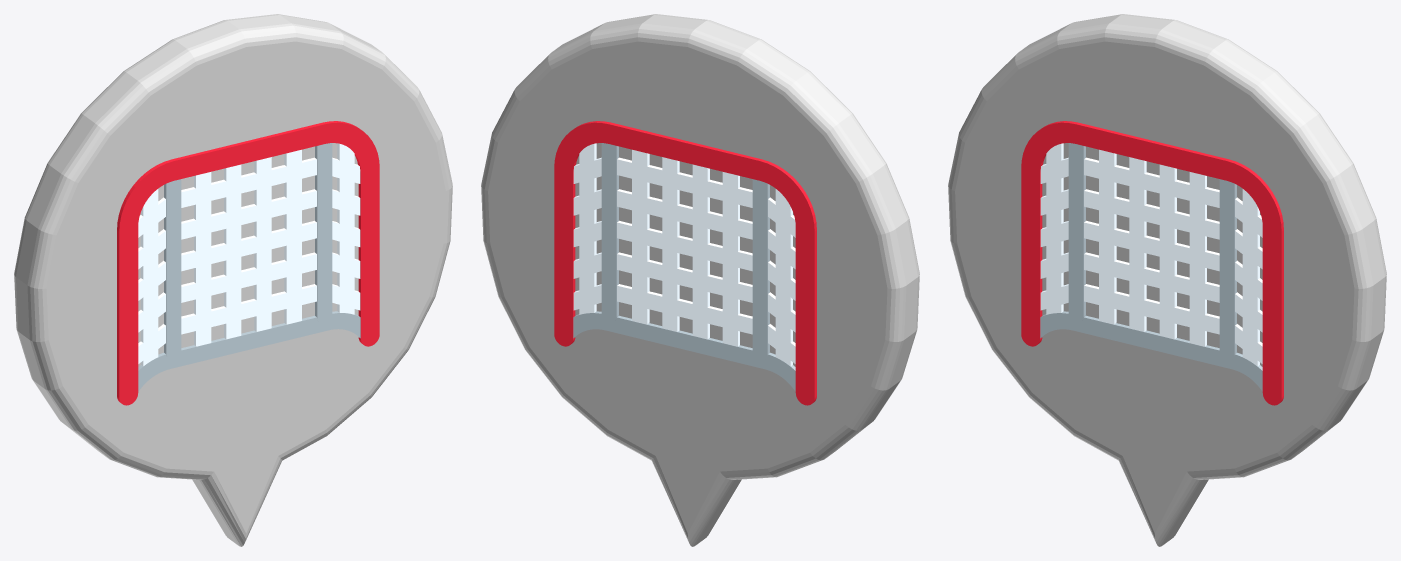
Rendered from goal_net.glb.
3 renders of one model, left to right at view 1: azimuth 30°, elevation 25°; view 2: azimuth 150°, elevation 25°; view 3: azimuth 330°, elevation 25°, orthographic.
Visible parts, largest first — view 1: EmotionBubble; view 2: EmotionBubble; view 3: EmotionBubble.
Boxes of the visible parts, <box> form: EmotionBubble: <box>14,14,452,546</box>; EmotionBubble: <box>481,14,919,546</box>; EmotionBubble: <box>948,14,1386,546</box>.
Size of the model in its own units: 5.29 by 6.16 by 0.694.
